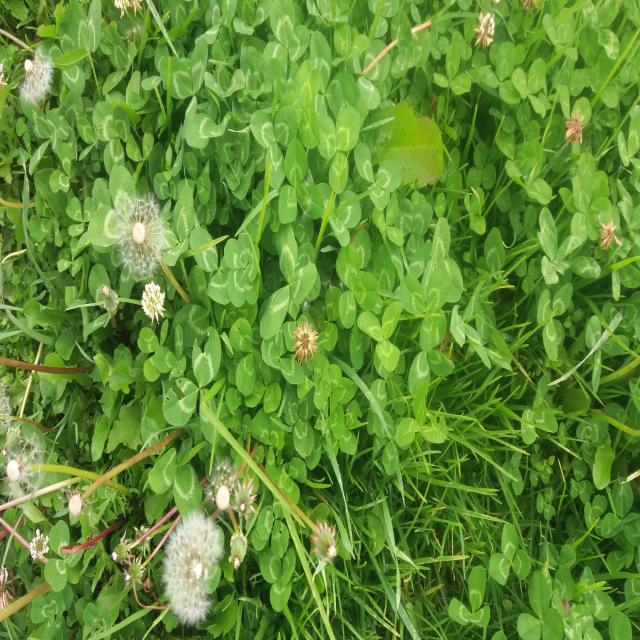Four Leaf Clover: (224, 233, 260, 307)
